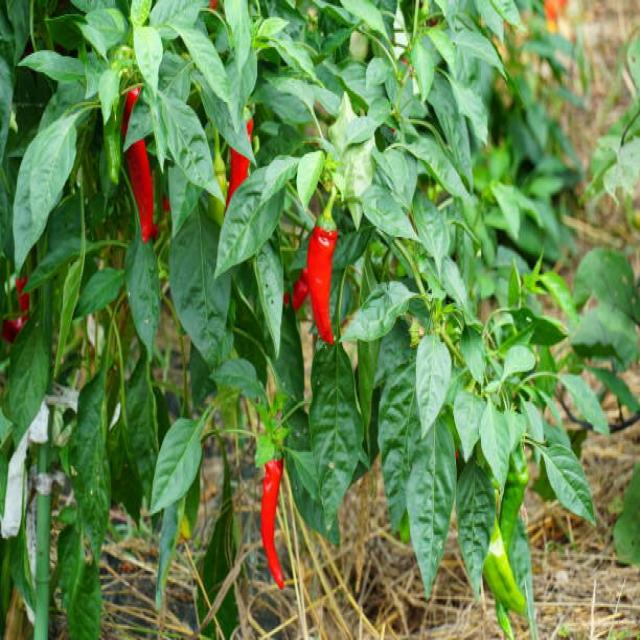Ripe: (300, 226, 337, 344), (124, 138, 157, 242), (261, 460, 283, 588)
Unripe: (483, 519, 525, 613)
